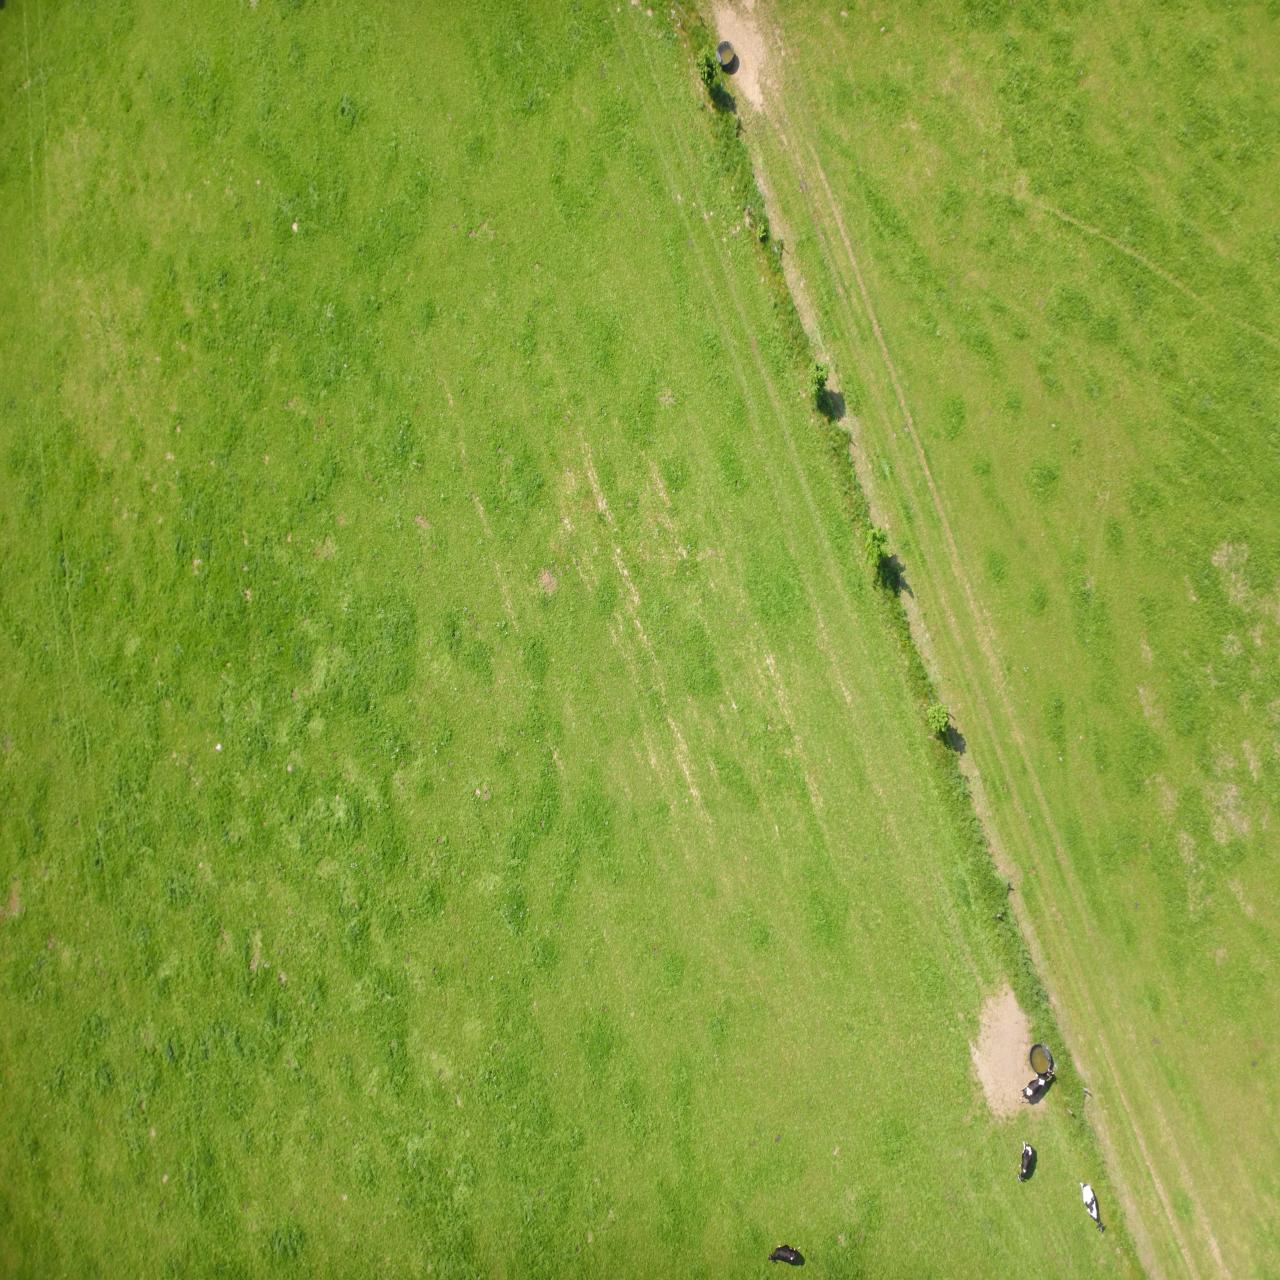cow: (176, 48, 200, 100), (225, 178, 261, 211), (479, 14, 512, 41), (247, 96, 263, 138)
